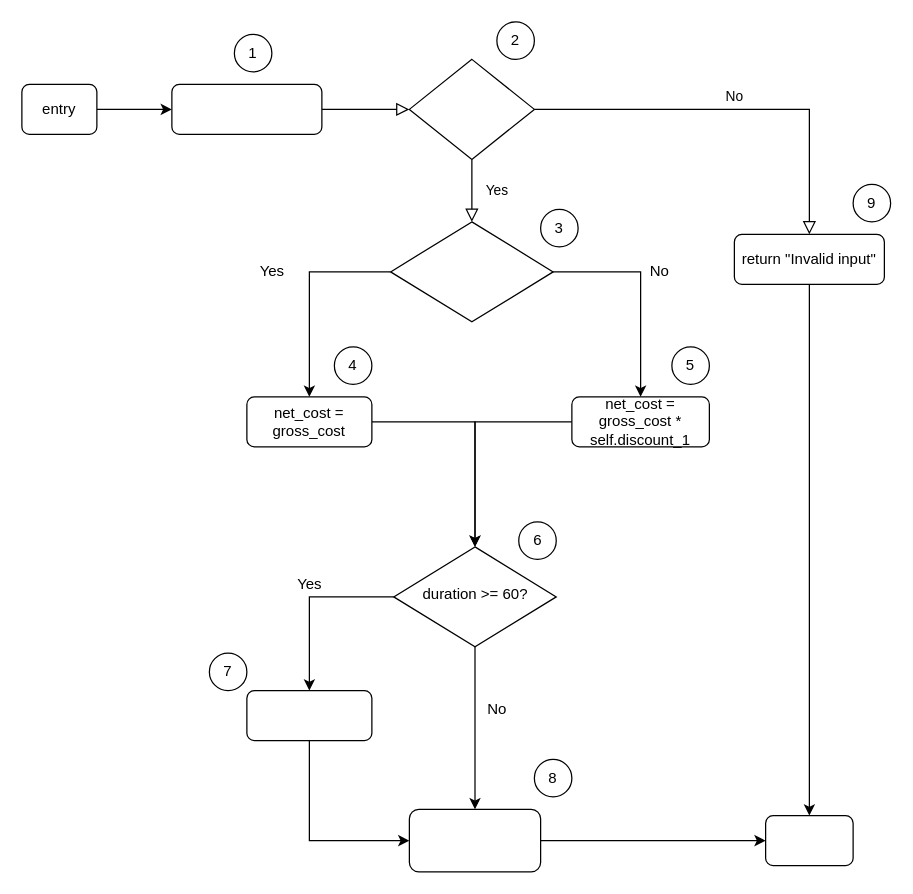
Some shapes in this 913 by 894 pixel diagram are drawn without their labels. Each missing label, with the box of its shape:
exit: (764, 814, 853, 866)
gross_cost = self.rate_per_min * self.duration: (171, 83, 322, 134)
net_cost += tax return round(net_cost, 2): (408, 808, 541, 872)
net_cost -= net_cost * self.discount_2: (246, 689, 372, 741)
start_time in normal range?: (389, 221, 553, 322)
start_time valid?: (408, 58, 534, 159)
